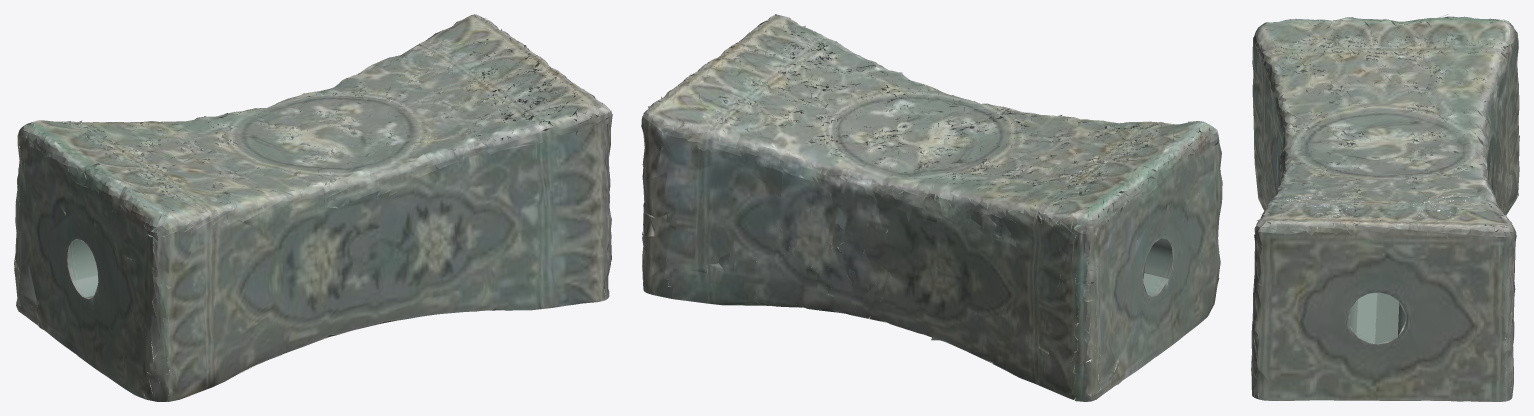
File: celadon-pillow-reconstruction.glb
3 views of the same model, side by side, from view 1: azimuth 30°, elevation 25°; view 2: azimuth 150°, elevation 25°; view 3: azimuth 270°, elevation 25° (orthographic). The views are drawn at different scales.
Visible parts, largest first — view 1: Pillow · camera-calibrated photo reconstruction; view 2: Pillow · camera-calibrated photo reconstruction; view 3: Pillow · camera-calibrated photo reconstruction.
Part boxes in pixels (box(x1,y1,x2,y2)): Pillow · camera-calibrated photo reconstruction: box(14, 14, 612, 401); Pillow · camera-calibrated photo reconstruction: box(641, 14, 1222, 401); Pillow · camera-calibrated photo reconstruction: box(1251, 14, 1519, 401).
Size of the model in its own units: 2.2 by 0.8596 by 1.17.
Materials: 2 (2 with a texture image).
